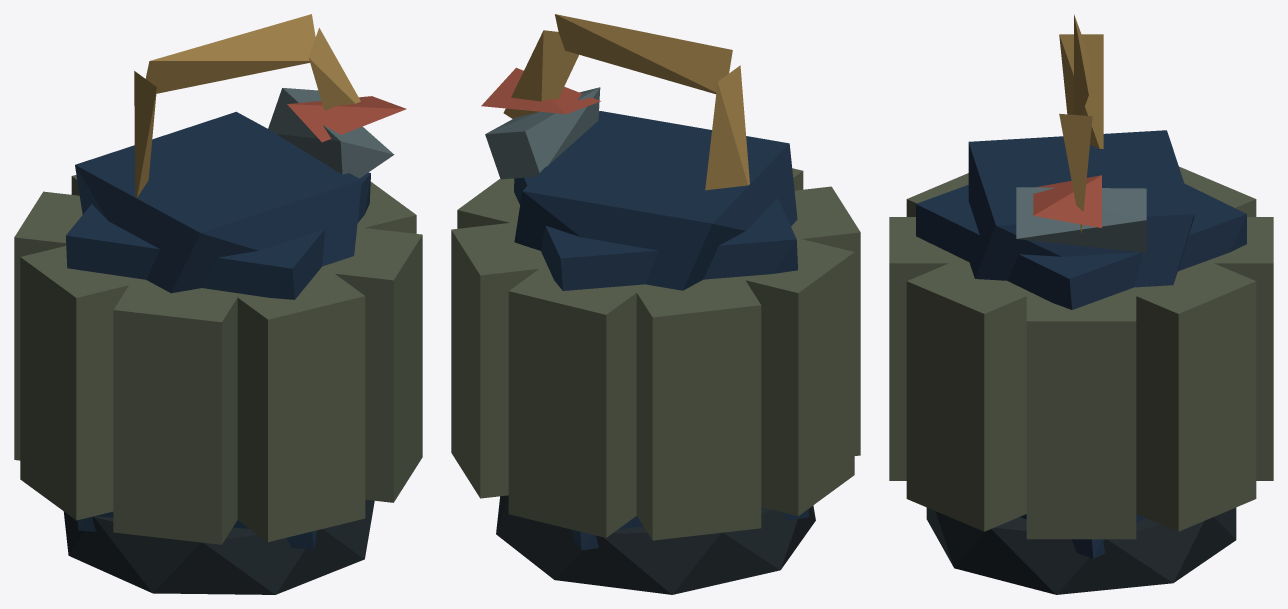
The model's file is FERNSTONE_GRENADE.shadow.glb.
3 views of the same model, side by side, from view 1: azimuth 30°, elevation 25°; view 2: azimuth 150°, elevation 25°; view 3: azimuth 270°, elevation 25° (orthographic). The views are drawn at different scales.
Parts seen in each view (by area): view 1: Body_Mesh; view 2: Body_Mesh; view 3: Body_Mesh.
Part boxes in pixels (bbox=[...]): Body_Mesh: bbox=[14, 14, 422, 594]; Body_Mesh: bbox=[451, 14, 860, 594]; Body_Mesh: bbox=[889, 14, 1273, 594].
Bounding box in the file's own units: 0.56 × 0.7725 × 0.56.
